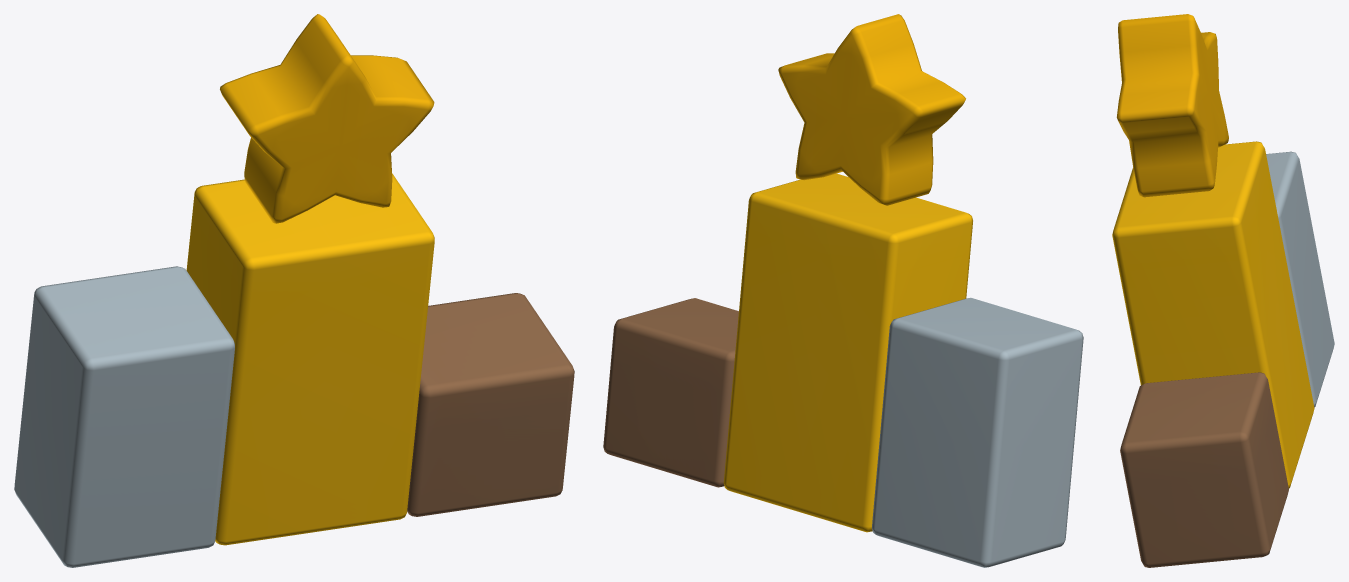
3 views of the same model, side by side, from view 1: azimuth 30°, elevation 25°; view 2: azimuth 150°, elevation 25°; view 3: azimuth 270°, elevation 25° (orthographic). The views are drawn at different scales.
Visible parts, largest first — view 1: model_1.082; view 2: model_1.082; view 3: model_1.082.
Boxes of the visible parts, x1,y1,x2,y2 form: model_1.082: (14, 14, 574, 567); model_1.082: (603, 14, 1083, 567); model_1.082: (1112, 14, 1334, 567).
Bounding box in the file's own units: 4.56 × 4.71 × 2.06.
